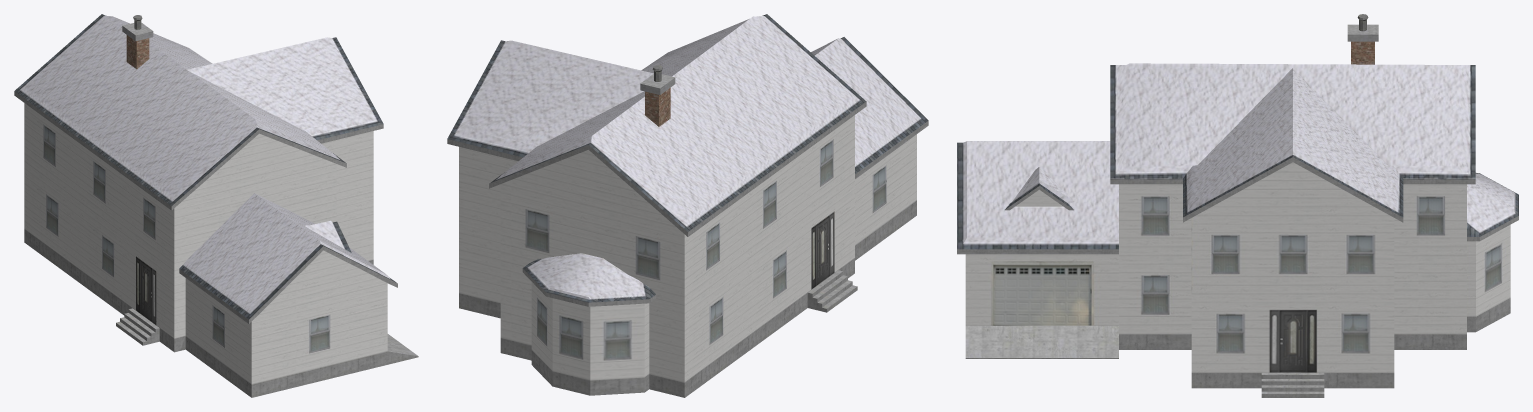
Rendered from TownHouse.glb.
The picture shows the model from 3 angles, left to right: view 1: azimuth 30°, elevation 25°; view 2: azimuth 150°, elevation 25°; view 3: azimuth 270°, elevation 25°; orthographic projection. The views are drawn at different scales.
Visible parts, largest first — view 1: PSX Snowy House; view 2: PSX Snowy House; view 3: PSX Snowy House.
Boxes of the visible parts, <box> form: PSX Snowy House: <box>14,14,418,397</box>; PSX Snowy House: <box>447,14,928,397</box>; PSX Snowy House: <box>957,14,1518,397</box>.
Size of the model in its own units: 8.14 by 7.12 by 12.92.
1 material, 1 textured.
